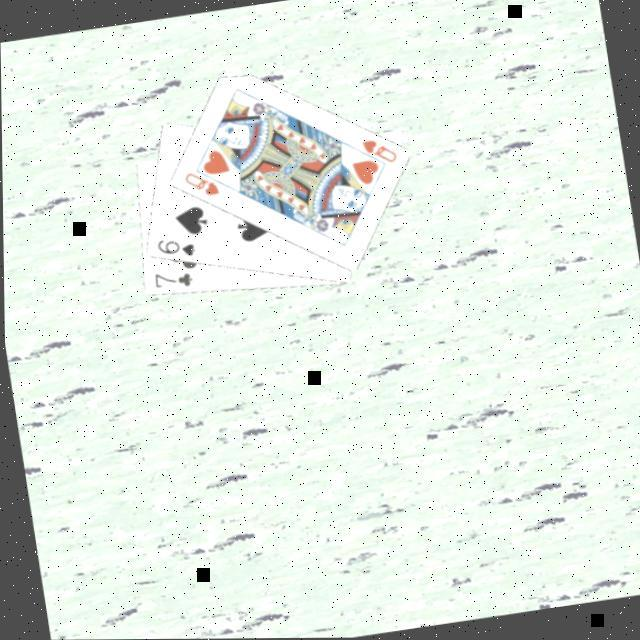6S: (153, 230, 200, 262)
7C: (150, 264, 197, 292)
QH: (350, 131, 402, 171), (180, 163, 222, 200)
